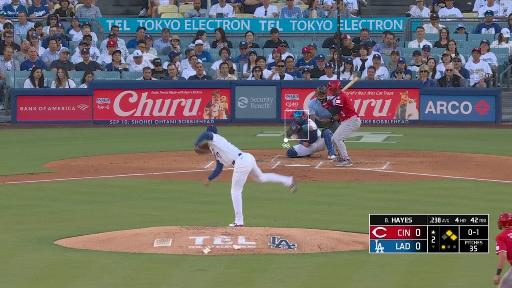pitcher: (193, 120, 299, 229)
